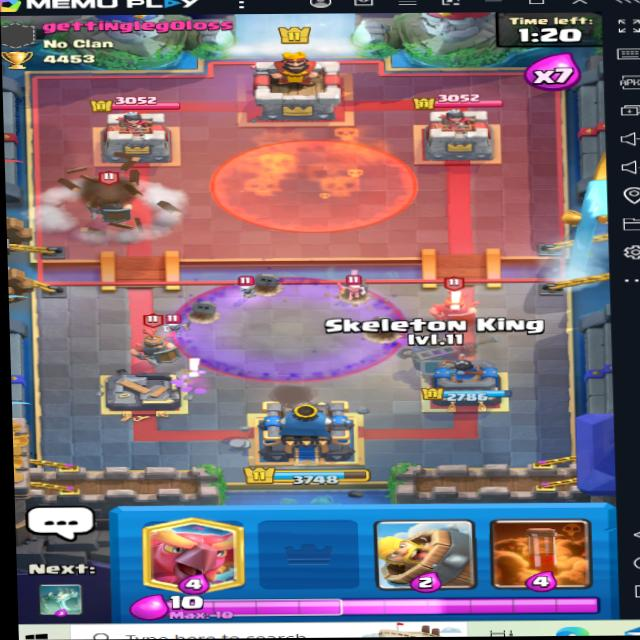graveyard: (168, 275, 412, 386)
poison: (215, 133, 418, 234)
royal-recruits: (417, 276, 489, 334), (77, 173, 147, 230), (121, 315, 177, 368)
skeleton: (324, 276, 369, 304), (224, 277, 263, 303), (163, 316, 192, 337)
